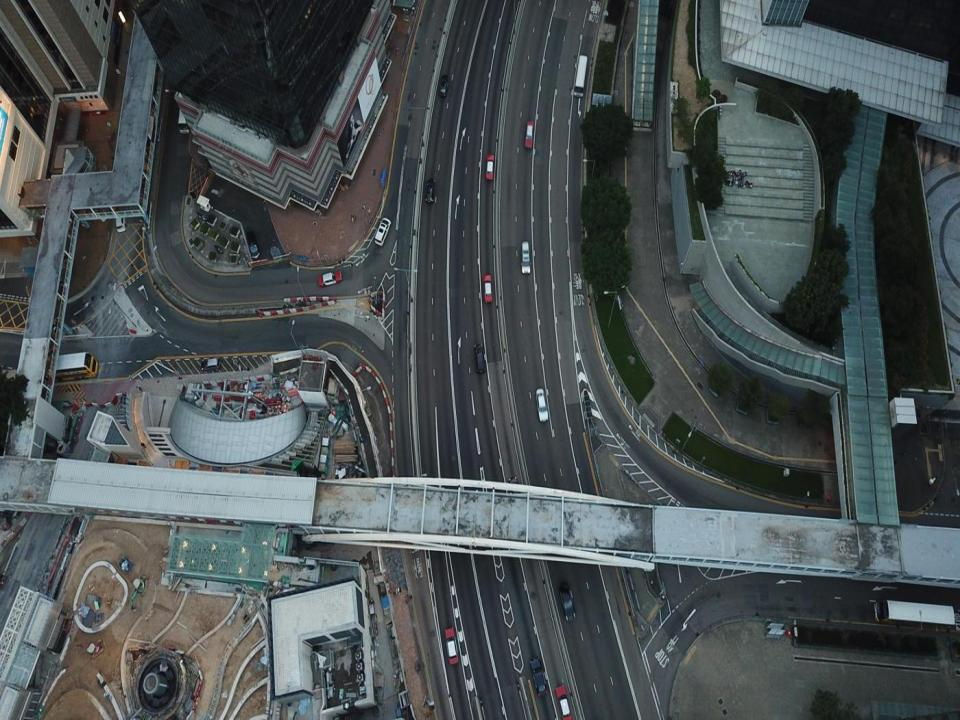bus: (872, 597, 957, 626), (29, 353, 99, 377), (575, 52, 588, 97), (179, 90, 190, 136)
car: (529, 658, 548, 696), (556, 586, 575, 622), (444, 625, 458, 667), (555, 684, 571, 719), (374, 215, 391, 246), (534, 387, 548, 423), (318, 270, 342, 286), (475, 344, 486, 378), (424, 174, 436, 204), (482, 273, 493, 305), (437, 72, 450, 99), (484, 154, 495, 182), (525, 118, 534, 149), (200, 356, 218, 371), (112, 216, 127, 233)
van: (243, 225, 262, 261), (519, 239, 529, 274)
